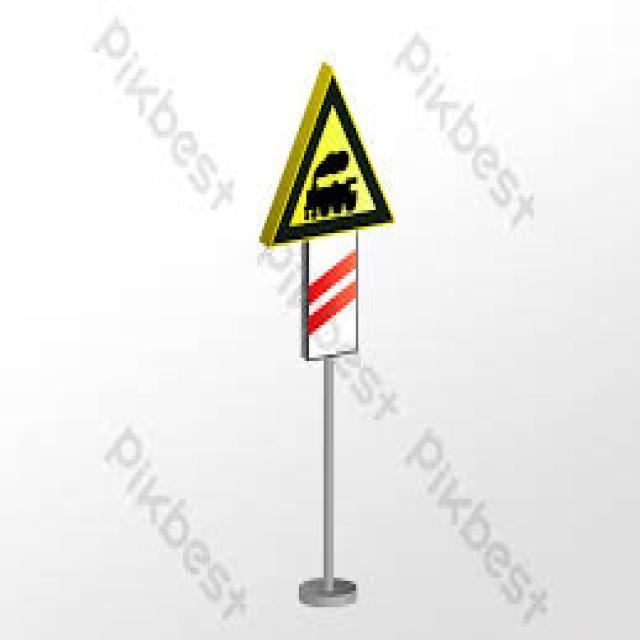unguarded level crossing: (257, 55, 397, 242)
